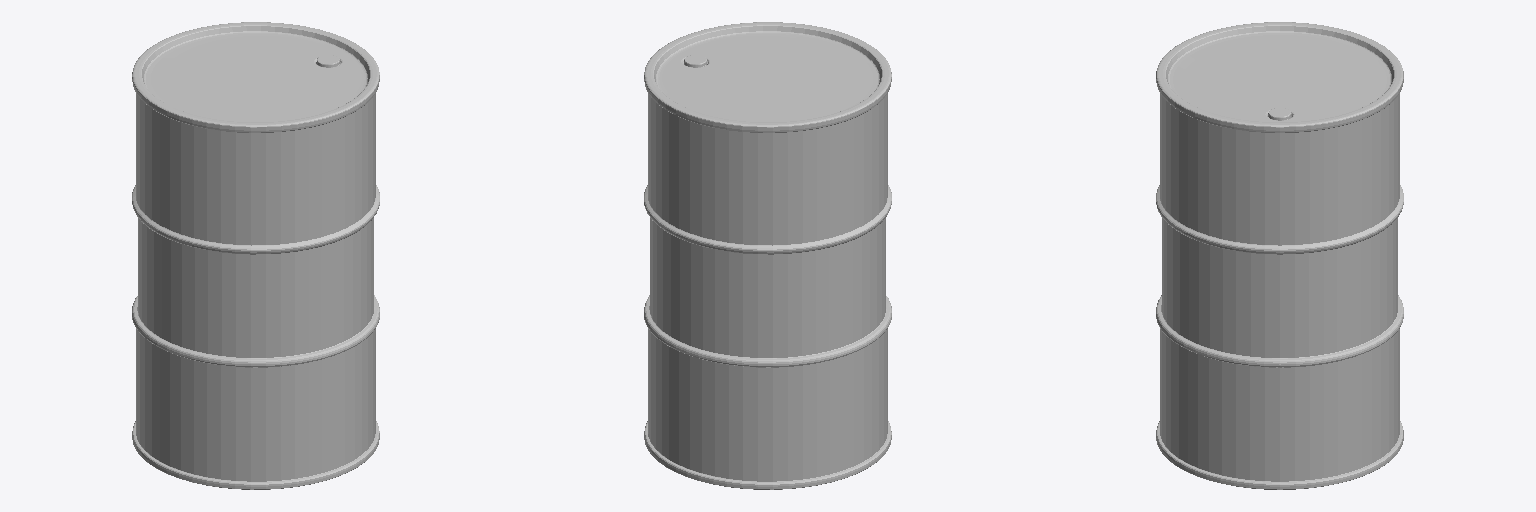
The model's file is Oil-Drum.obj.
The picture shows the model from 3 angles: view 1: azimuth 30°, elevation 25°; view 2: azimuth 150°, elevation 25°; view 3: azimuth 270°, elevation 25°; orthographic projection.
Parts seen in each view (by area): view 1: Oil_Drum; view 2: Oil_Drum; view 3: Oil_Drum.
Part boxes in pixels (left/top/right/bottom): Oil_Drum: left=132, top=22, right=379, bottom=489; Oil_Drum: left=644, top=22, right=891, bottom=489; Oil_Drum: left=1156, top=22, right=1403, bottom=489.
Size of the model in its own units: 18.67 by 30.17 by 18.63.